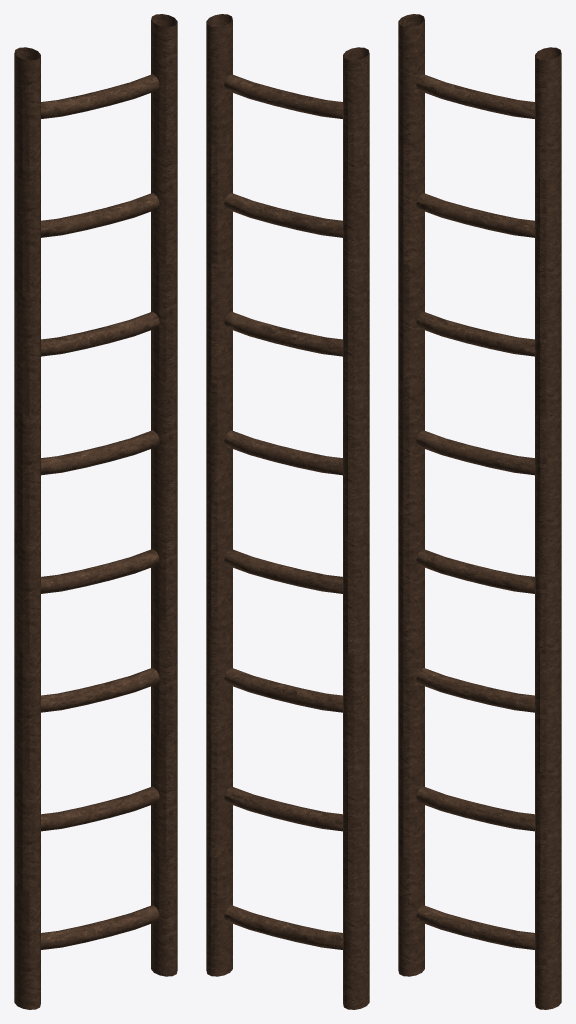
File: Ladder_8m.fbx
3 renders of one model, left to right at view 1: azimuth 30°, elevation 25°; view 2: azimuth 150°, elevation 25°; view 3: azimuth 330°, elevation 25°, orthographic.
Parts seen in each view (by area): view 1: Ladder_8m; view 2: Ladder_8m; view 3: Ladder_8m.
Part boxes in pixels (left/top/right/bottom): Ladder_8m: left=14, top=14, right=177, bottom=1009; Ladder_8m: left=206, top=14, right=369, bottom=1009; Ladder_8m: left=398, top=14, right=561, bottom=1009.
Bounding box in the file's own units: 139 × 800 × 25.14.
Materials: 1 (1 with a texture image).
